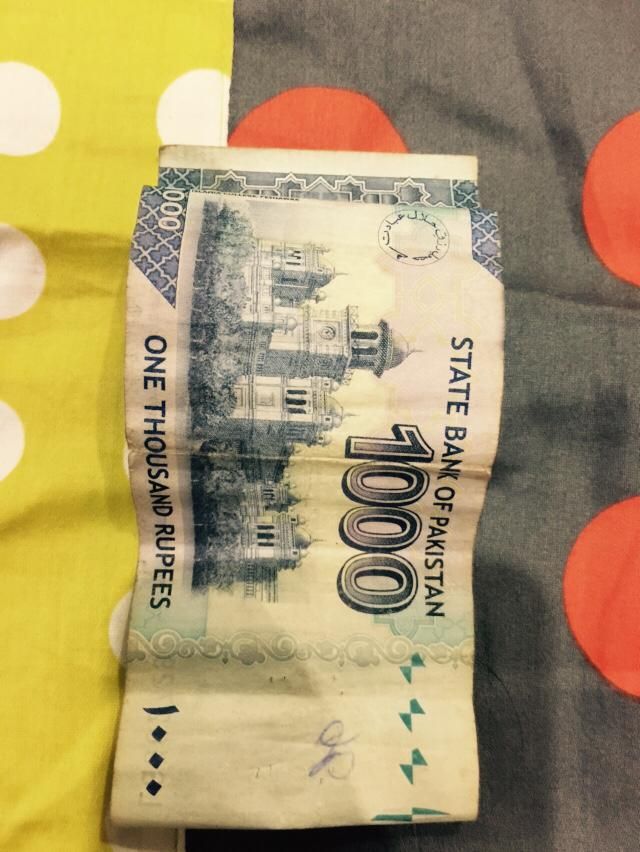1000 rupee: (115, 141, 512, 832)
